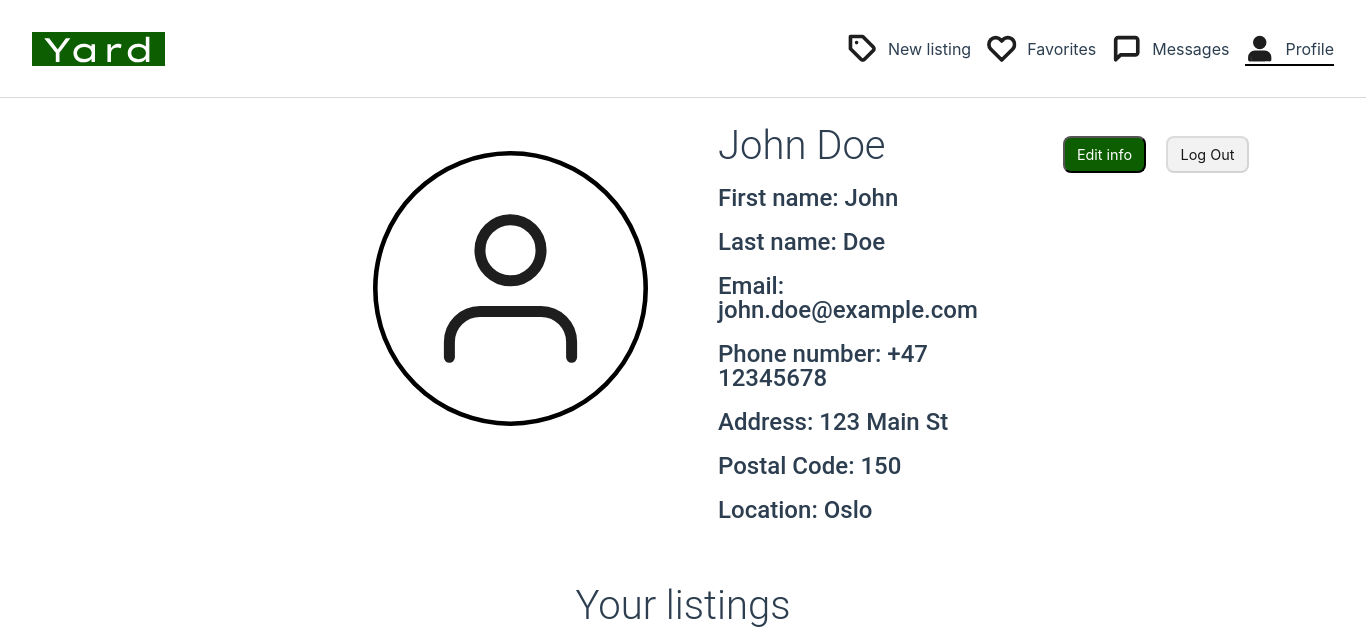
Test: Profile Page › enters edit mode when edit button is clicked
Click the button with class "edit-info-button".
click(1105, 155)  # box [1063,136,1146,173]
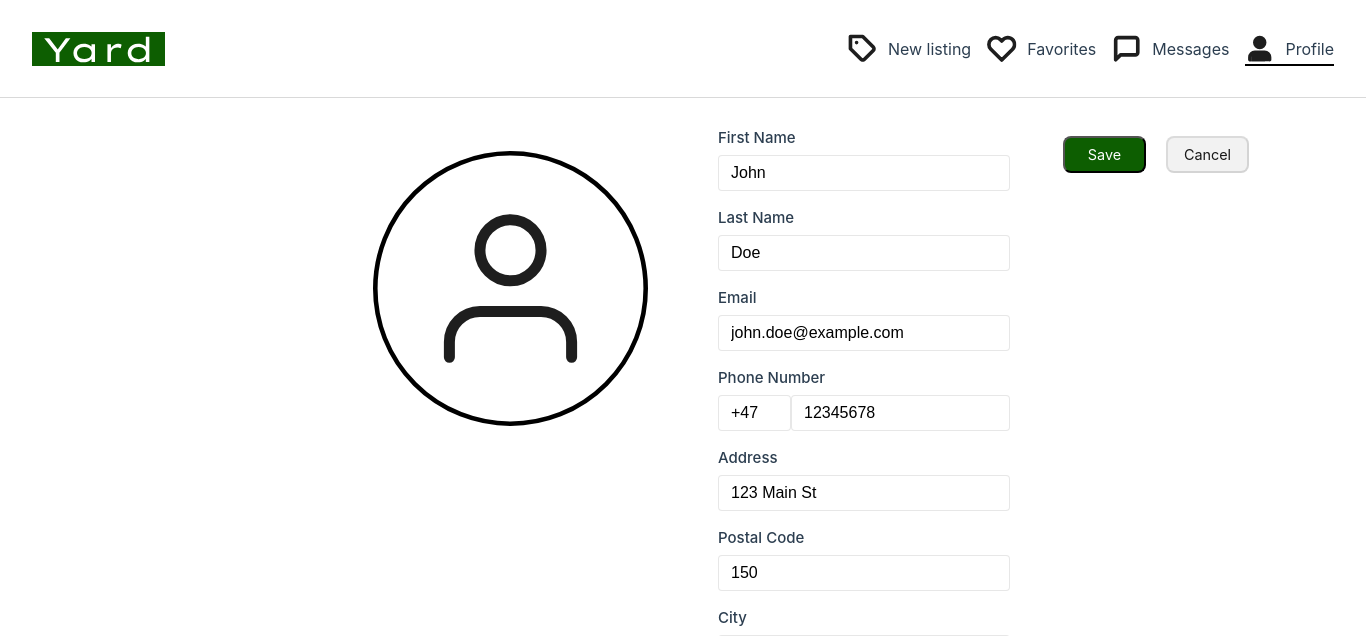
Expected: the field with id "firstName" holds "John", [718,155,1010,191]
Expected: the field with id "lastName" holds "Doe", [718,235,1010,271]
Expected: the field with id "email" holds "john.doe@example.com", [718,315,1010,351]
